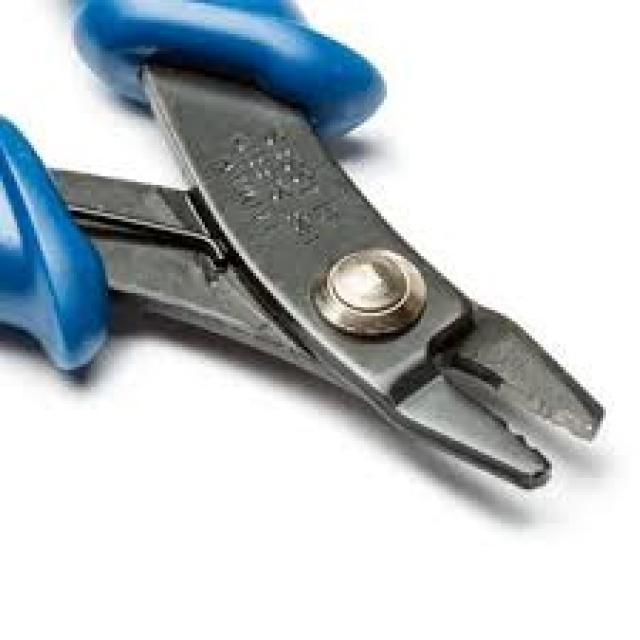pliers: (0, 0, 612, 493)
